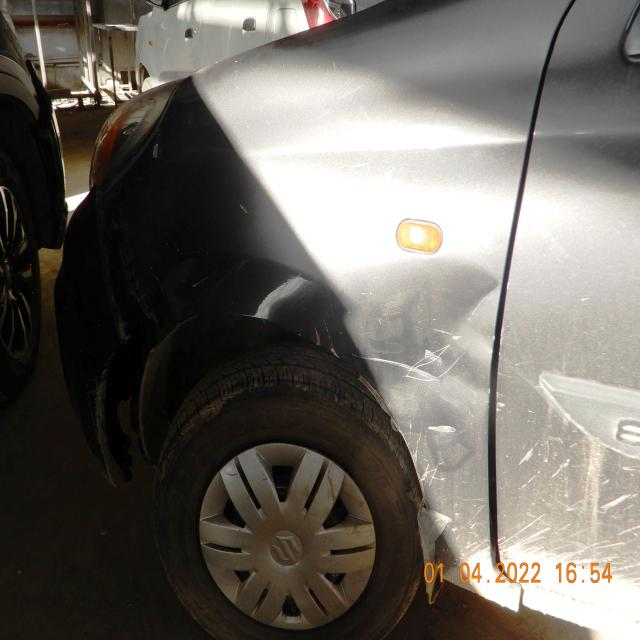damage: (508, 363, 640, 615), (257, 256, 498, 366), (404, 369, 494, 589), (233, 115, 522, 167), (551, 126, 640, 171)
